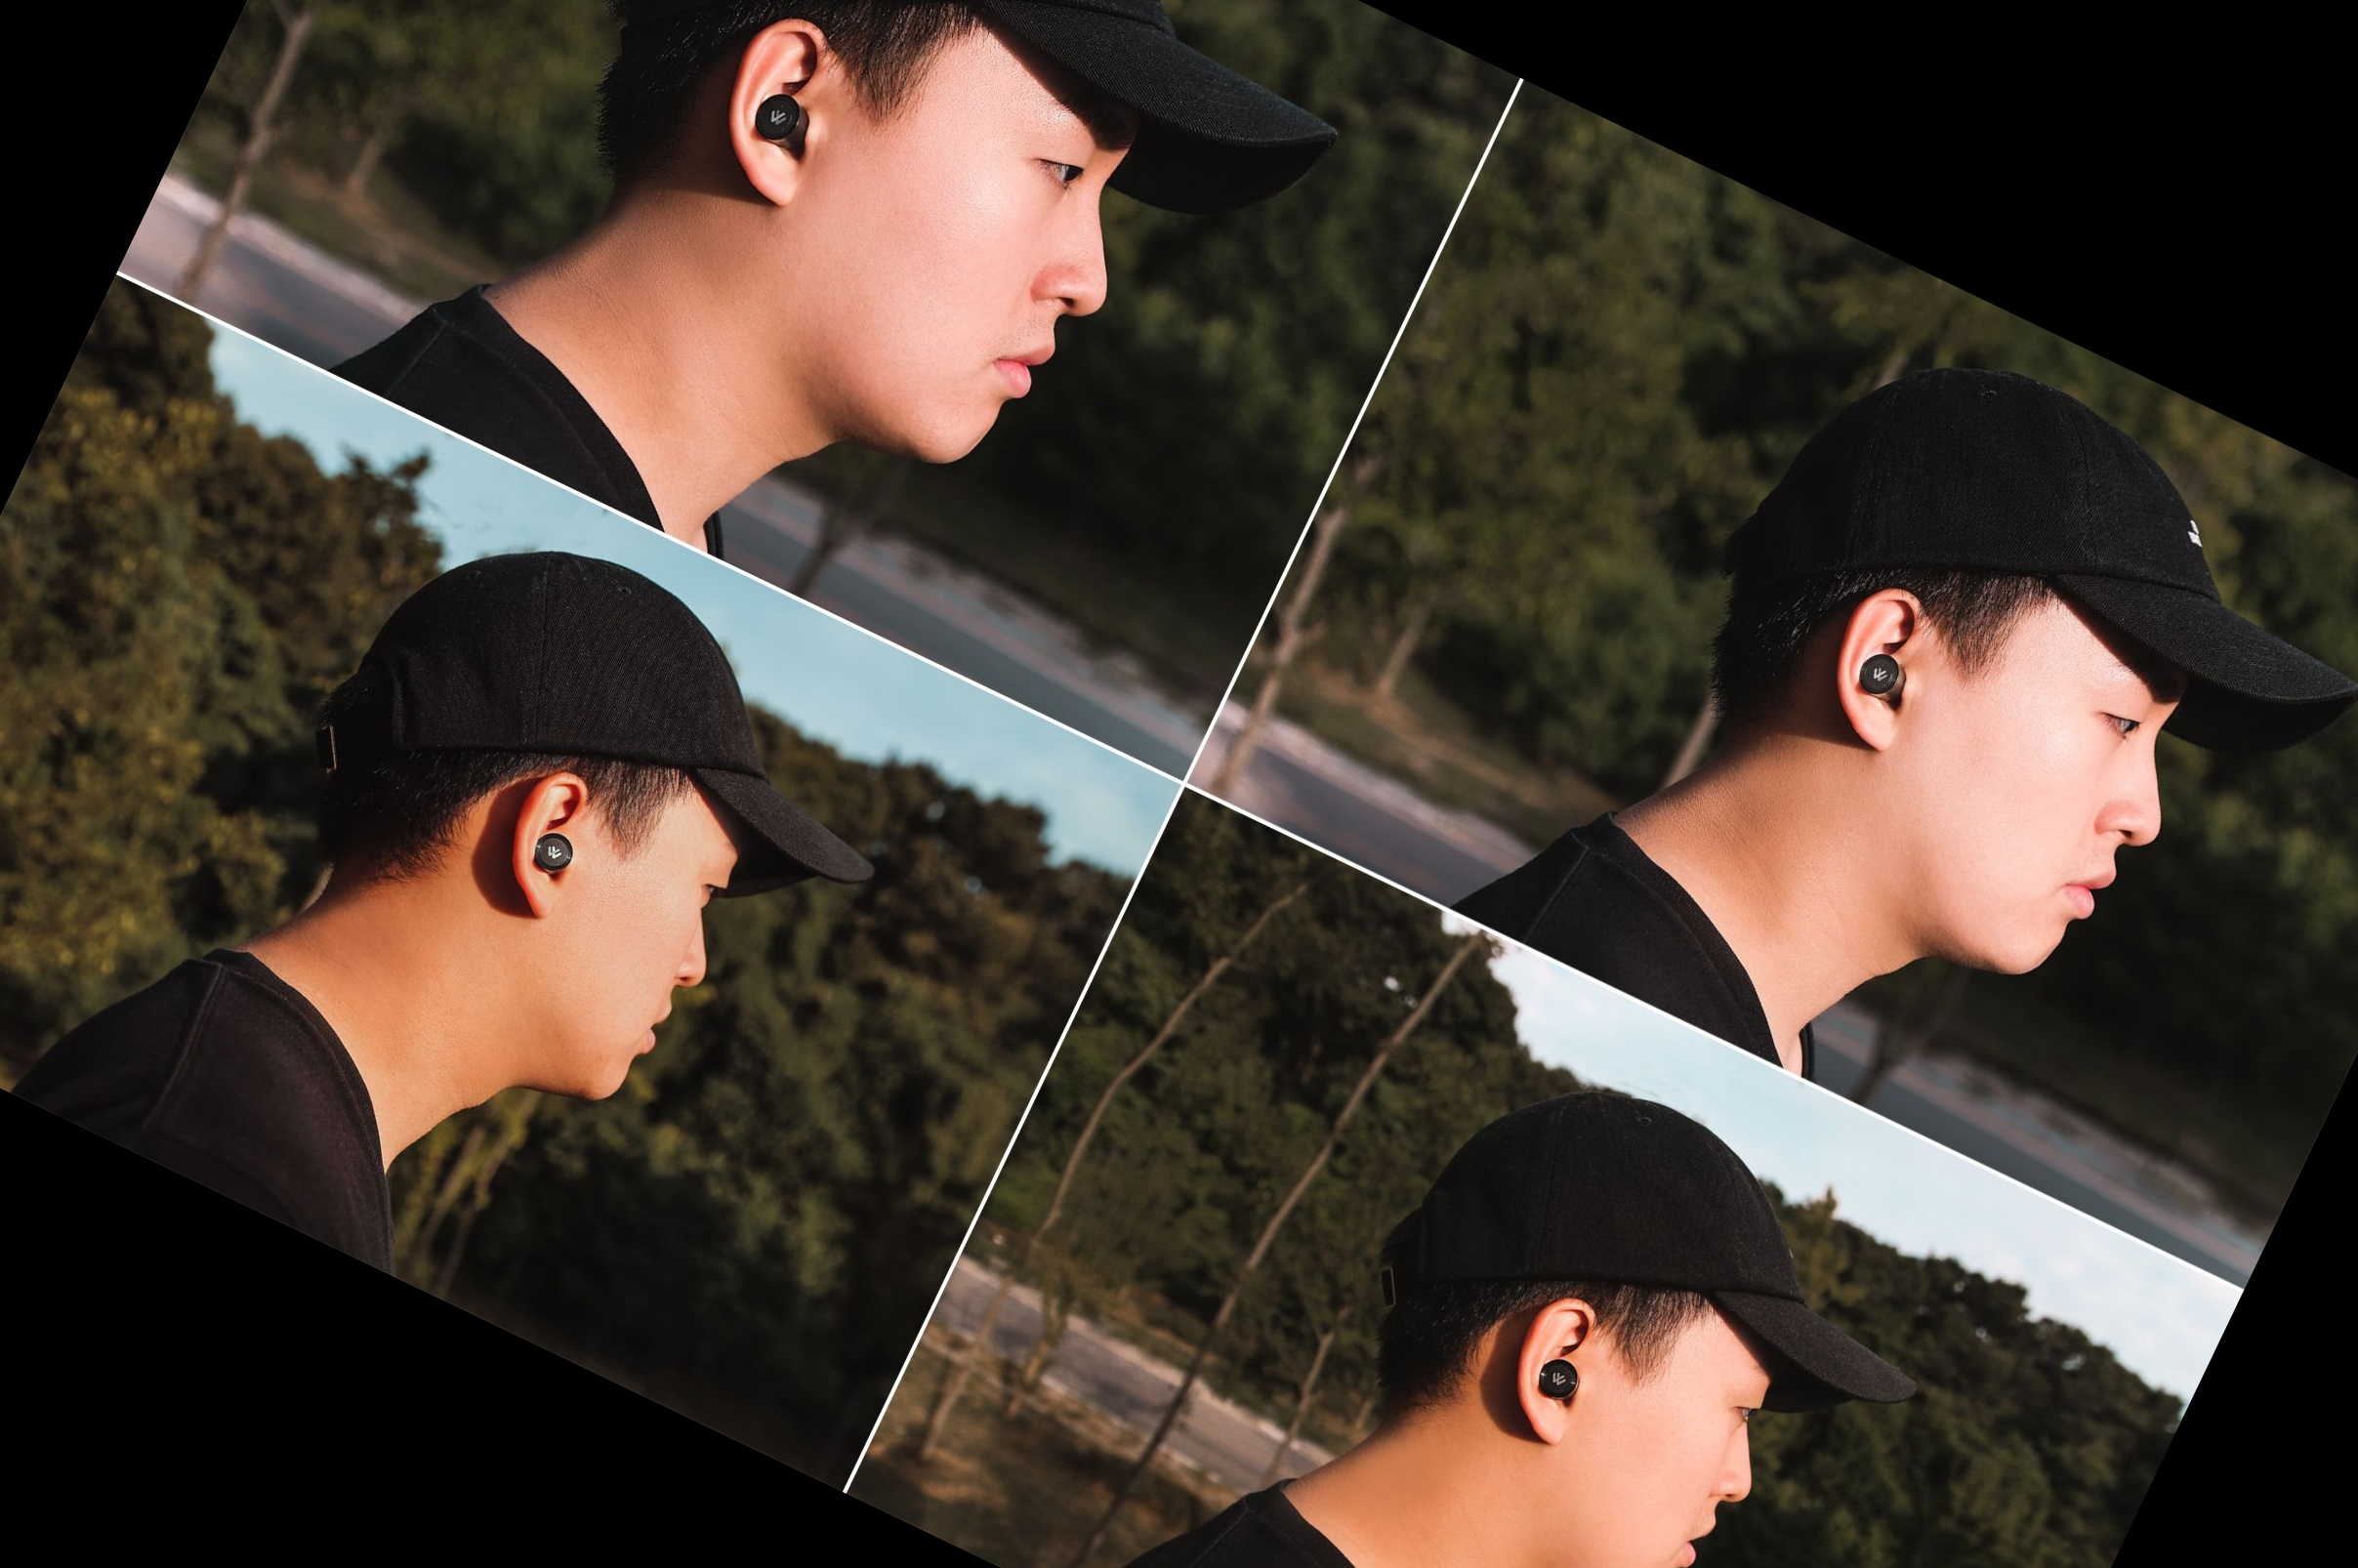earphone: (693, 3, 864, 210), (1803, 576, 1954, 761), (481, 761, 610, 926), (1489, 1286, 1618, 1442)
